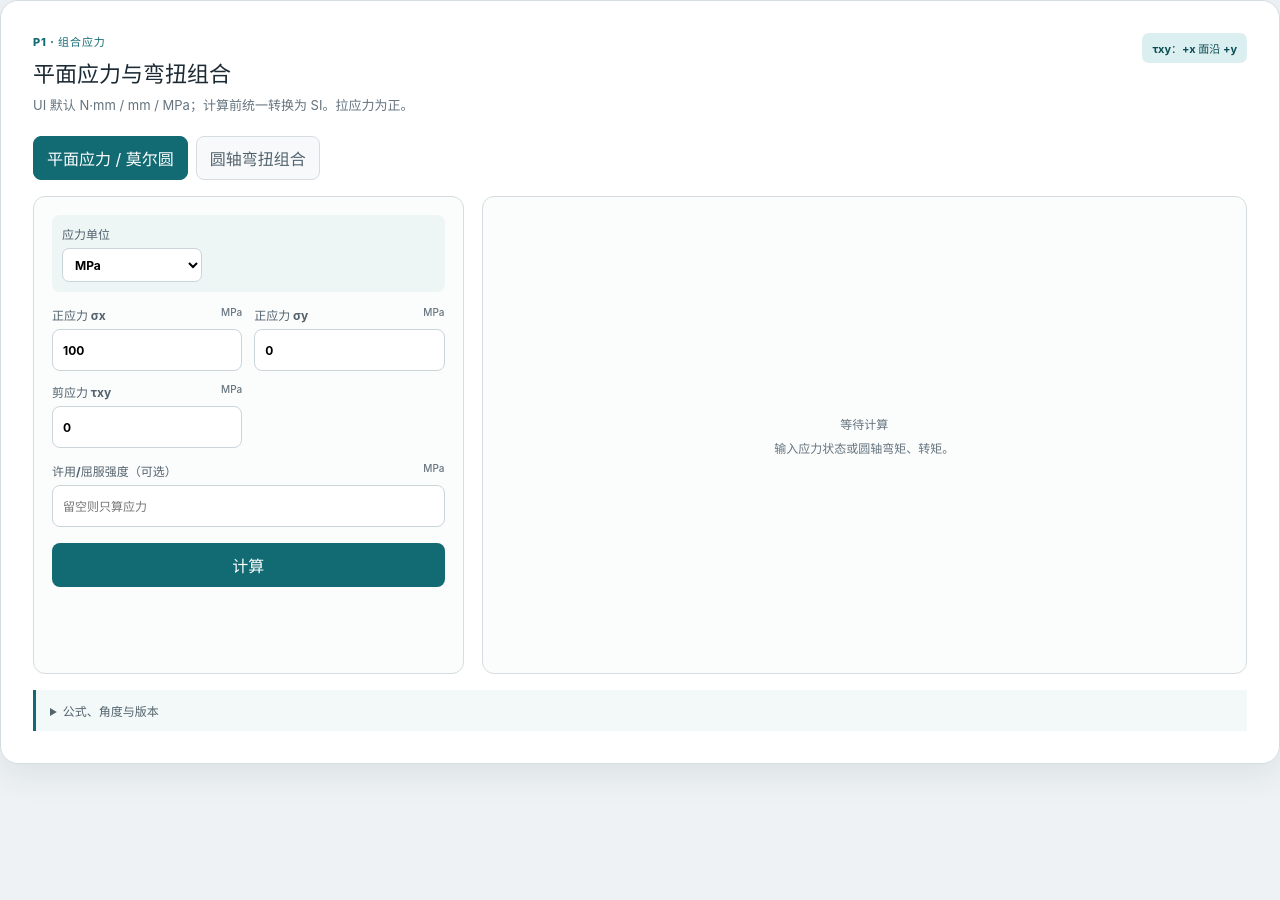
Test: StressCalculator › switches to bending-torsion and reports selected-fibre recovery
What coordinates should you click on to do the following:
click the button "圆轴弯扭组合"
I would click on:
 (258, 158)
Its box is [196,136,320,180].
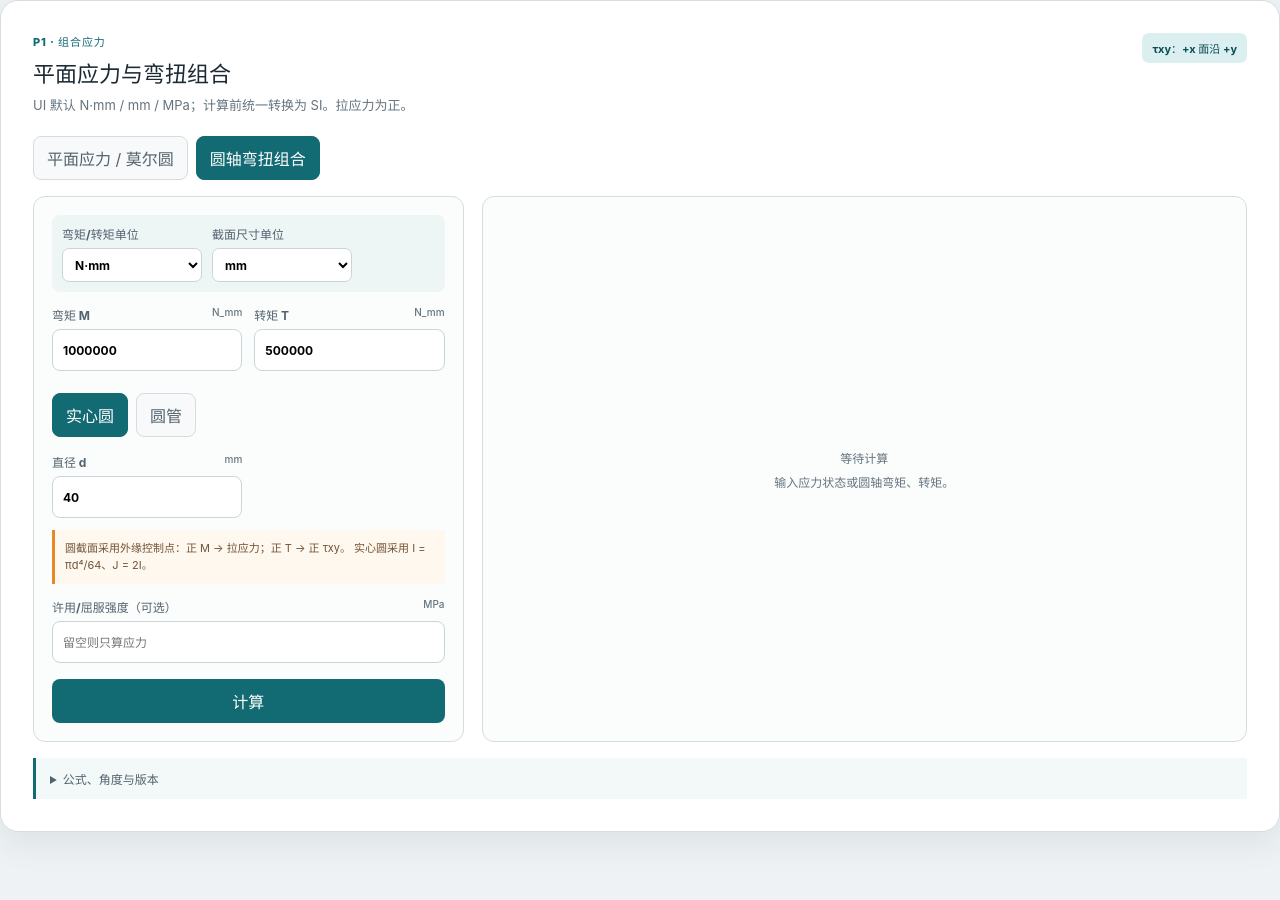
What coordinates should you click on to do the following:
click the button with class "calculate"
I would click on:
 (248, 701)
Its box is [52,679,444,723].
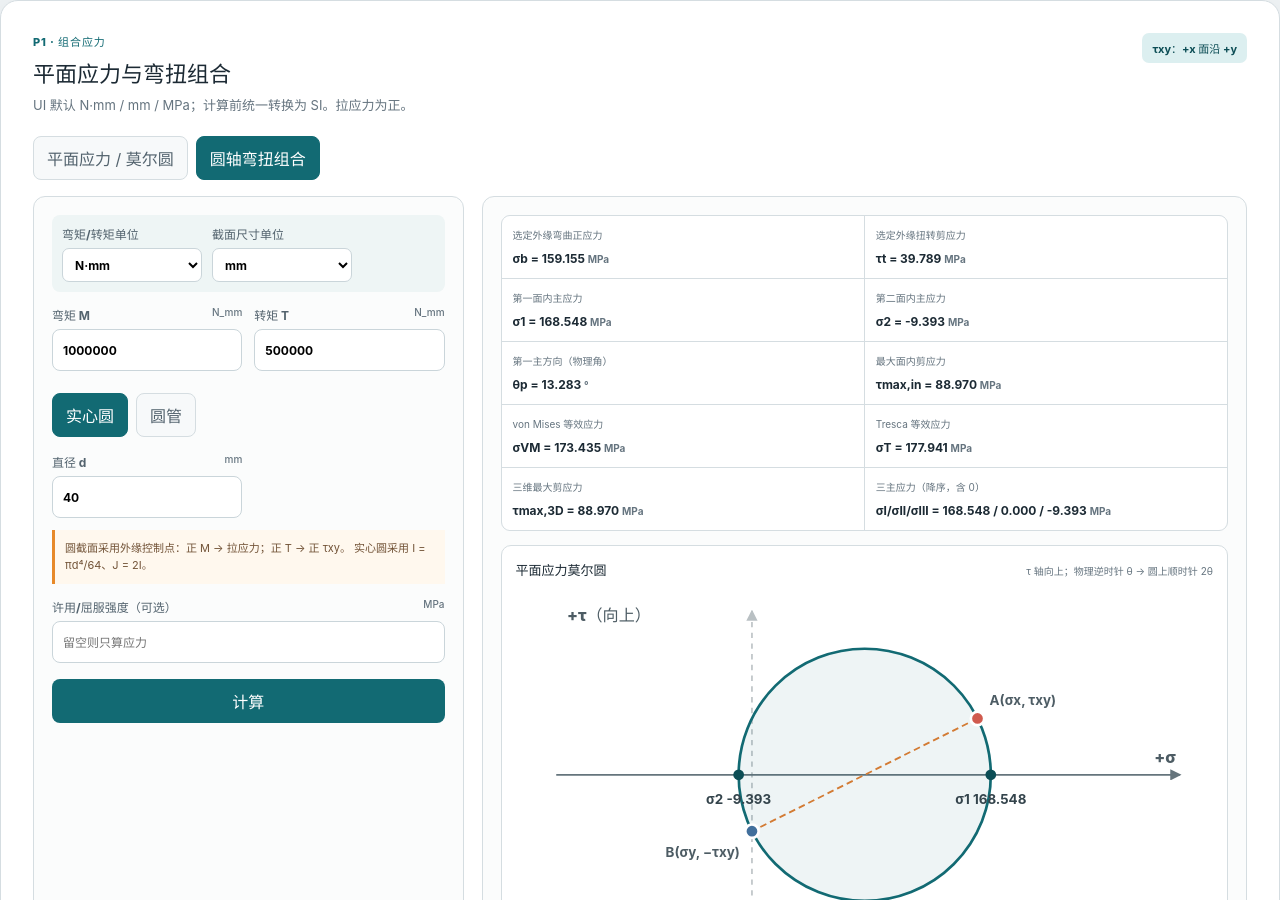
Check: the text "选定外缘弯曲正应力" is shown, box [512,229,602,241]
Check: the text "选定外缘扭转剪应力" is shown, box [876,229,966,241]
Check: the text "A(σx, τxy)" is shown, box [989,692,1056,708]
